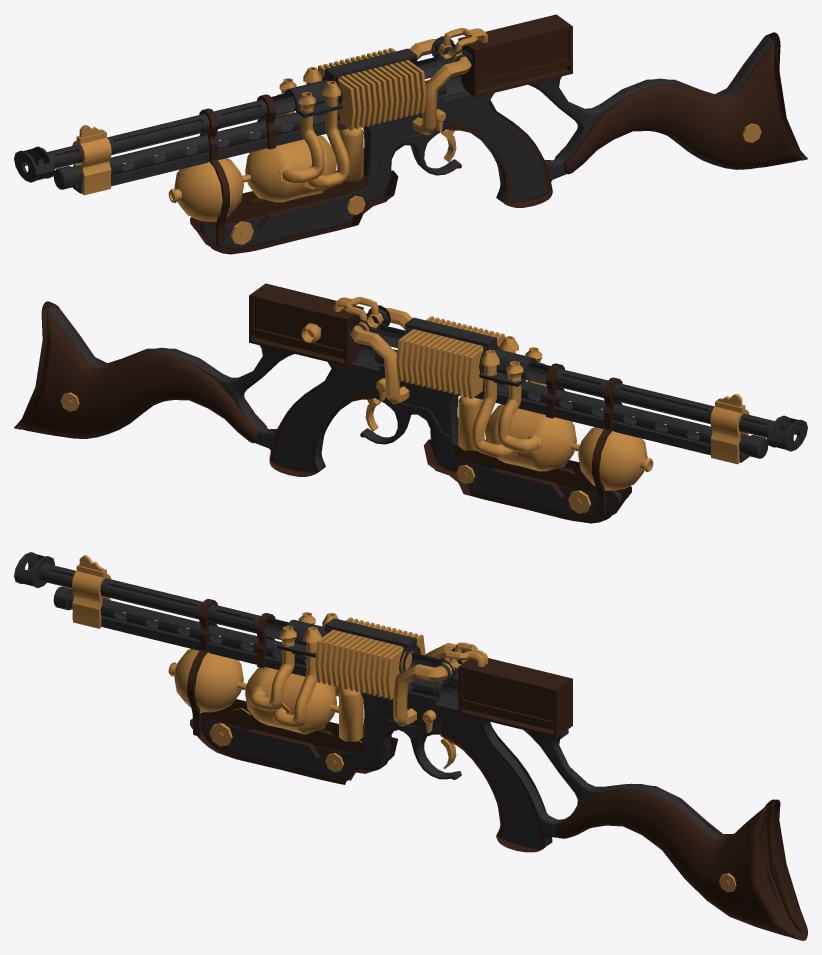
Rendered from rifle.fbx.
3 renders of one model, top to bottom at view 1: azimuth 30°, elevation 25°; view 2: azimuth 150°, elevation 25°; view 3: azimuth 330°, elevation 25°, orthographic.
Parts seen in each view (by area): view 1: rifle; view 2: rifle; view 3: rifle.
Part boxes in pixels (<box>): rifle: <box>14,14,807,254</box>; rifle: <box>14,283,807,523</box>; rifle: <box>14,552,807,940</box>.
Size of the model in its own units: 1008 by 258 by 110.
